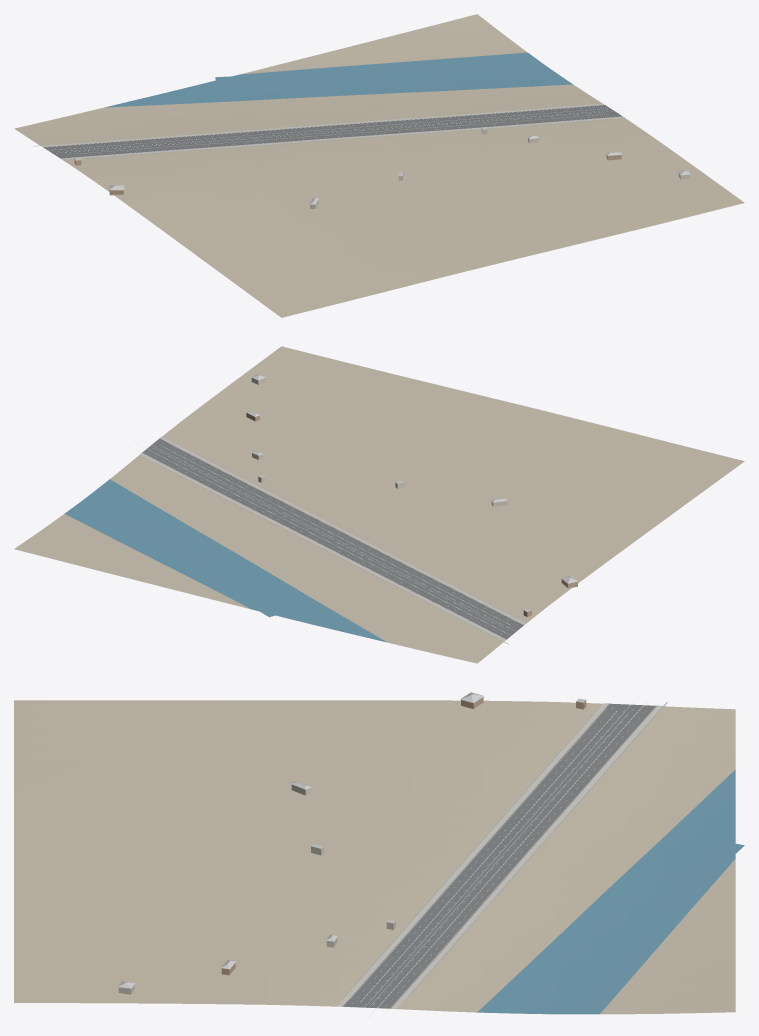
File: bolak_5_-14.glb
3 views of the same model, one above another, from view 1: azimuth 30°, elevation 25°; view 2: azimuth 150°, elevation 25°; view 3: azimuth 270°, elevation 25° (orthographic). The views are drawn at different scales.
Visible parts, largest first — view 1: Yer_Tuproq-col, Suv, Yol_Asfalt-col, Trotuar, Yol_Chiziq, Ariq; view 2: Yer_Tuproq-col, Suv, Yol_Asfalt-col, Trotuar, Yol_Chiziq, Ariq; view 3: Yer_Tuproq-col, Suv, Yol_Asfalt-col, Trotuar, Yol_Chiziq, Ariq, Tom_Shifer.
Part boxes in pixels (left/top/right/bottom): Yer_Tuproq-col: left=14, top=14, right=744, bottom=317; Suv: left=104, top=52, right=572, bottom=107; Yol_Asfalt-col: left=43, top=105, right=621, bottom=158; Trotuar: left=41, top=103, right=624, bottom=159; Yol_Chiziq: left=38, top=103, right=640, bottom=157; Ariq: left=33, top=105, right=611, bottom=159; Yer_Tuproq-col: left=14, top=346, right=744, bottom=663; Suv: left=64, top=479, right=387, bottom=642; Yol_Asfalt-col: left=142, top=438, right=523, bottom=639; Trotuar: left=140, top=436, right=525, bottom=641; Yol_Chiziq: left=133, top=436, right=521, bottom=637; Ariq: left=154, top=441, right=521, bottom=644; Yer_Tuproq-col: left=14, top=700, right=735, bottom=1014; Suv: left=477, top=769, right=744, bottom=1014; Yol_Asfalt-col: left=343, top=703, right=656, bottom=1008; Trotuar: left=337, top=703, right=662, bottom=1008; Yol_Chiziq: left=350, top=697, right=660, bottom=1021; Ariq: left=342, top=702, right=667, bottom=998; Tom_Shifer: left=118, top=692, right=585, bottom=988.
Size of what is drawn, in the model's own units: 429 by 13.03 by 405.
